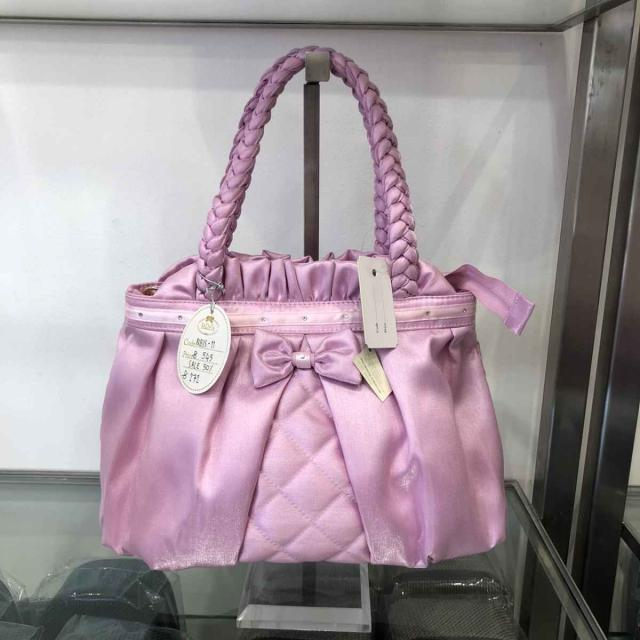handbag: (83, 196, 497, 587)
